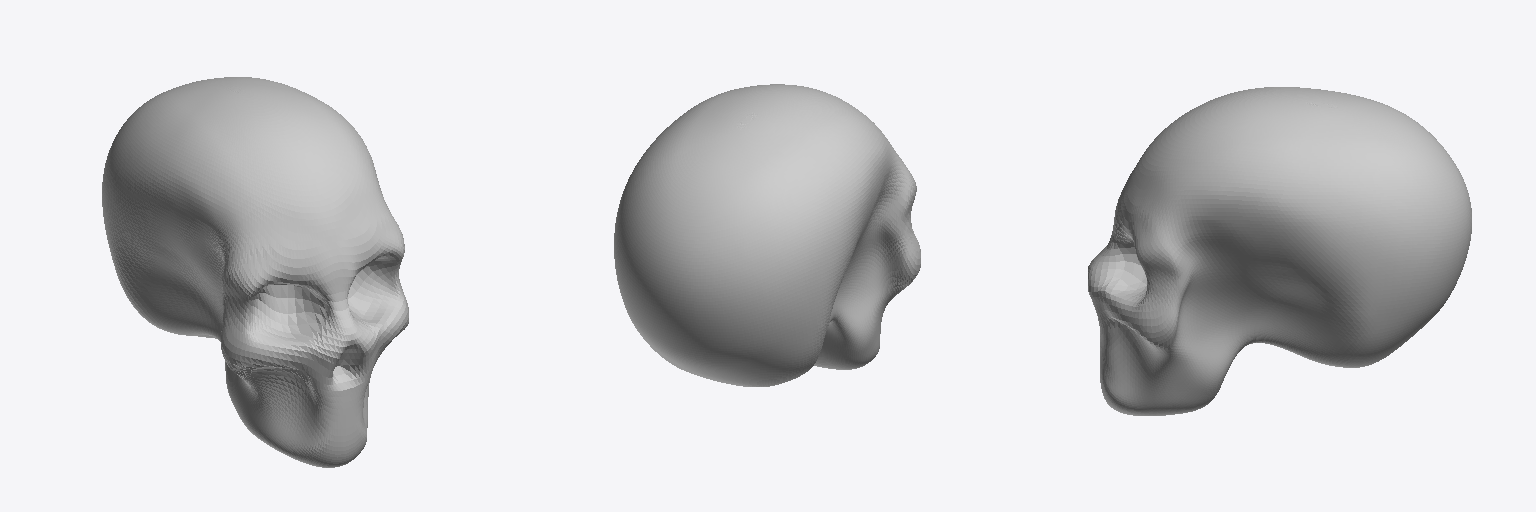
File: Cabeça.obj
The picture shows the model from 3 angles: view 1: azimuth 30°, elevation 25°; view 2: azimuth 150°, elevation 25°; view 3: azimuth 270°, elevation 25°; orthographic projection.
Parts seen in each view (by area): view 1: Group28415; view 2: Group28415; view 3: Group28415.
Boxes of the visible parts, x1=… form: Group28415: x1=102, y1=77, x2=408, y2=467; Group28415: x1=614, y1=84, x2=920, y2=386; Group28415: x1=1088, y1=87, x2=1471, y2=415.
Bounding box in the file's own units: 0.5708 × 0.7979 × 0.9052.